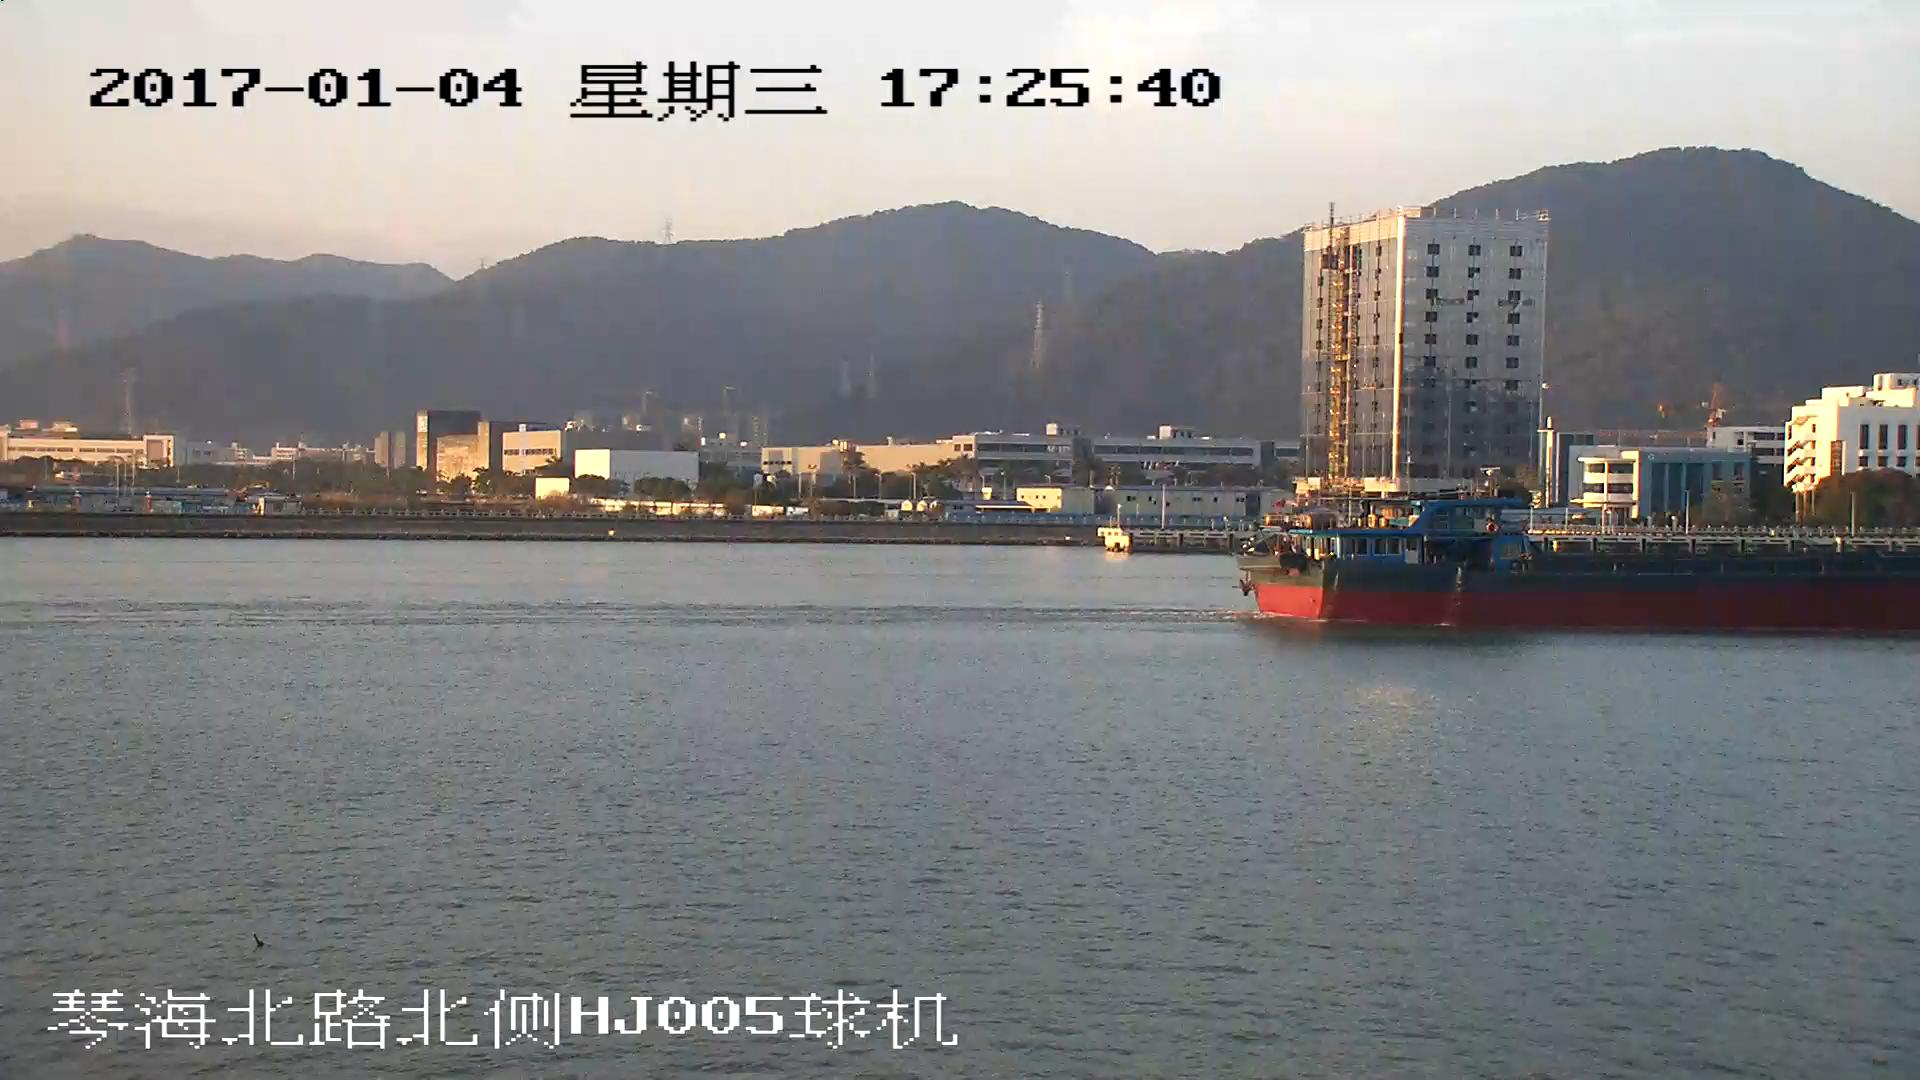general cargo ship: (1247, 497, 1920, 637)
